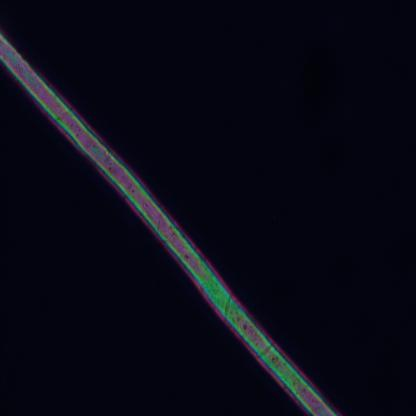Microfibre: (0, 34, 340, 415)
